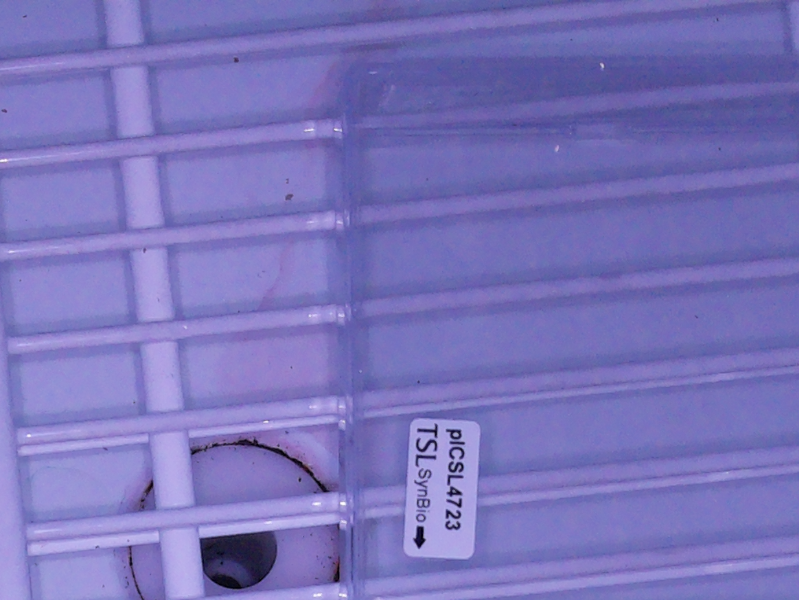plate: (338, 58, 799, 600)
